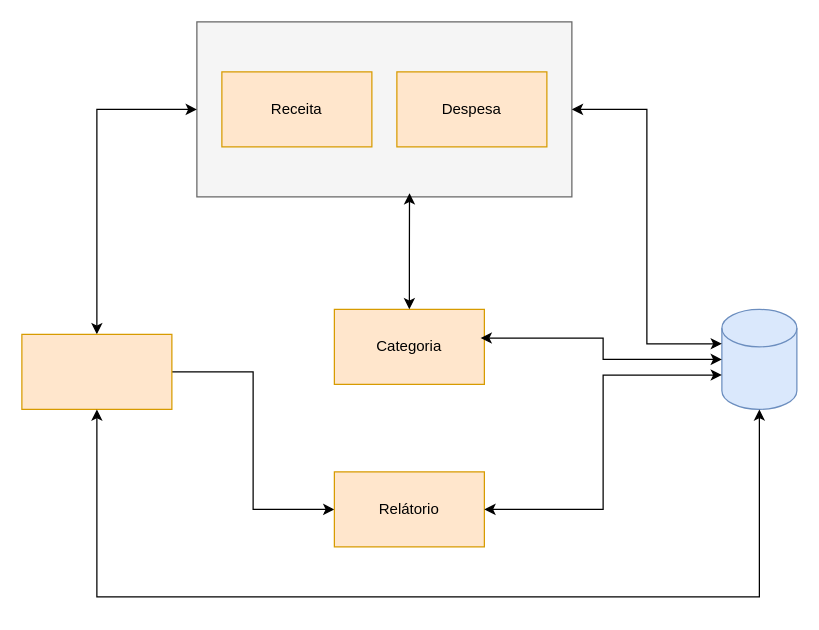
Some shapes in this 819 by 630 pixel diagram are drawn without their labels. The box of each missing label's shape, as (x1, y1, x2, y2) in pixels:
Banco de dados: (721, 308, 797, 409)
Usuário: (21, 333, 172, 409)
